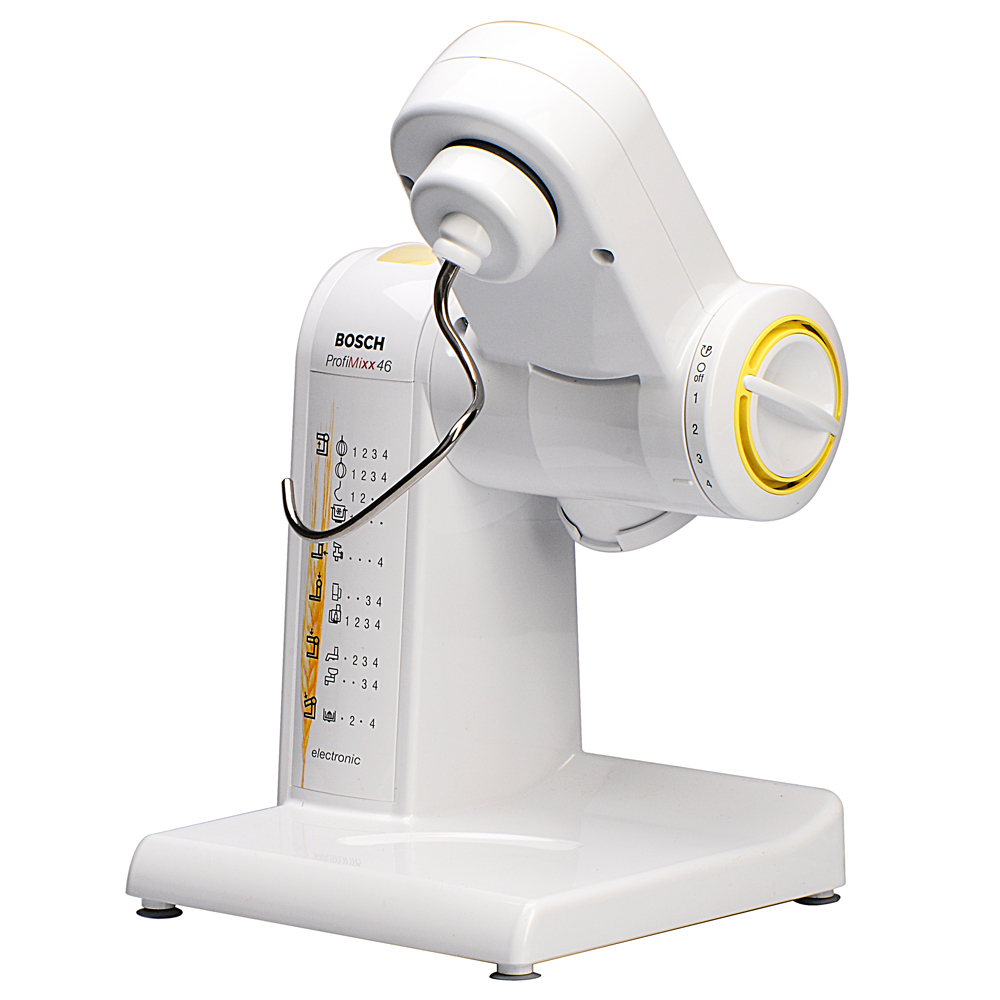Bosch: (329, 326, 397, 355)
